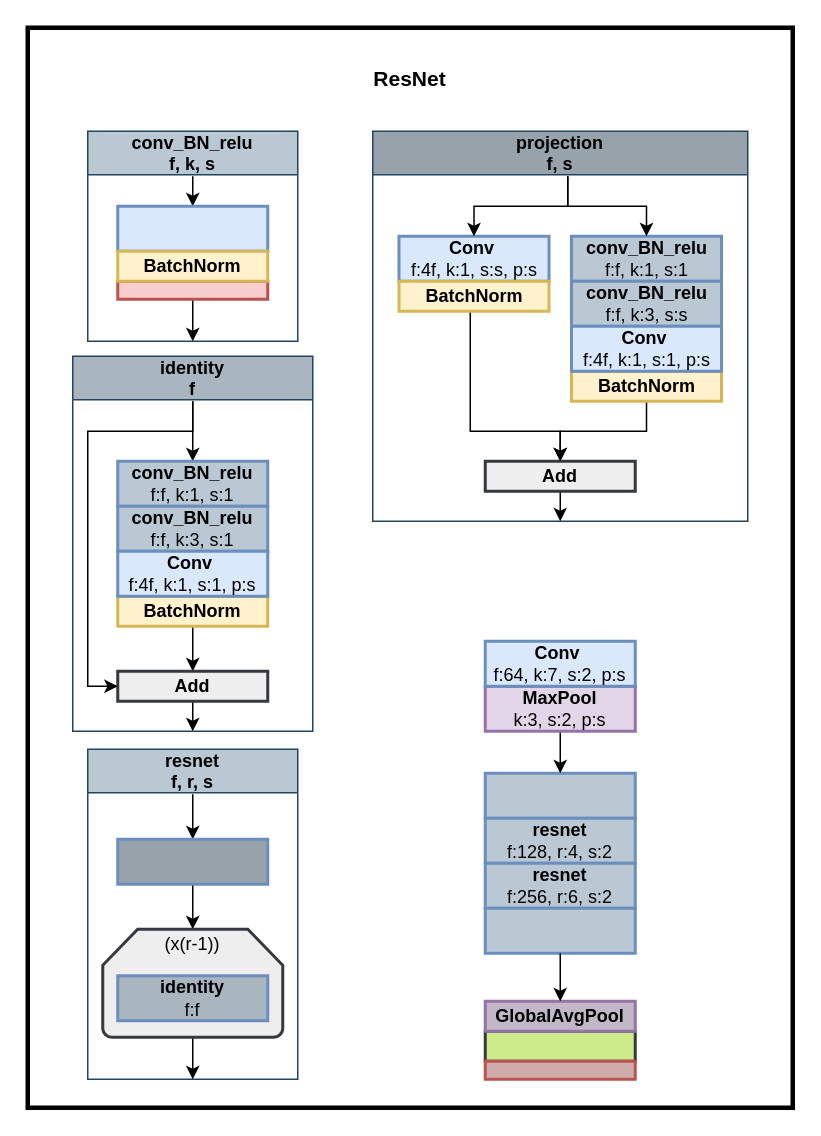
Some shapes in this 821 by 1136 pixel diagram are drawn without their labels. Here are the shapes that lost their labels. From the top down, the centre of each, then its label:
At (192,228): "Conv f:f, k:k, s:s, p:s".
At (192,289): "ReLU".
At (559,795): "resnet f:64, r:3, s:1".
At (192,861): "projection f:f, s:s".
At (559,930): "resnet f:512, r:3, s:2".
At (559,1045): "FC 1000".
At (559,1069): "SoftMax".
